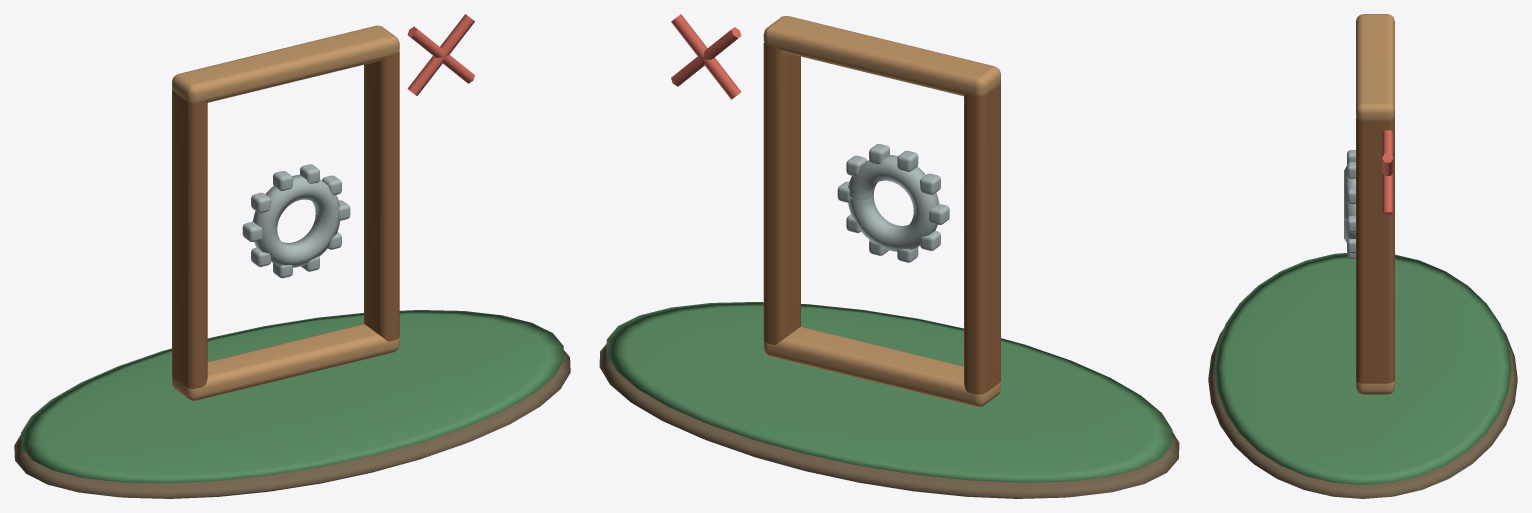
File: complete-third-bounded-making.glb
3 views of the same model, side by side, from view 1: azimuth 30°, elevation 25°; view 2: azimuth 150°, elevation 25°; view 3: azimuth 270°, elevation 25° (orthographic). The views are drawn at different scales.
Visible parts, largest first — view 1: complete-third-bounded-making_surface_01, complete-third-bounded-making_surface_02, complete-third-bounded-making_surface_03, complete-third-bounded-making_surface_00, complete-third-bounded-making_surface_04, complete-third-bounded-making_surface_05; view 2: complete-third-bounded-making_surface_01, complete-third-bounded-making_surface_02, complete-third-bounded-making_surface_03, complete-third-bounded-making_surface_00, complete-third-bounded-making_surface_04, complete-third-bounded-making_surface_05; view 3: complete-third-bounded-making_surface_01, complete-third-bounded-making_surface_02, complete-third-bounded-making_surface_00, complete-third-bounded-making_surface_03, complete-third-bounded-making_surface_04, complete-third-bounded-making_surface_05.
Part boxes in pixels (x1,y1,x2,y2): complete-third-bounded-making_surface_01: (21, 310, 563, 483); complete-third-bounded-making_surface_02: (172, 51, 399, 388); complete-third-bounded-making_surface_03: (172, 25, 399, 400); complete-third-bounded-making_surface_00: (14, 350, 570, 498); complete-third-bounded-making_surface_04: (242, 164, 350, 278); complete-third-bounded-making_surface_05: (407, 14, 474, 95); complete-third-bounded-making_surface_01: (606, 302, 1172, 482); complete-third-bounded-making_surface_02: (763, 42, 1000, 394); complete-third-bounded-making_surface_03: (763, 16, 1000, 406); complete-third-bounded-making_surface_00: (599, 344, 1179, 498); complete-third-bounded-making_surface_04: (837, 144, 949, 262); complete-third-bounded-making_surface_05: (671, 14, 741, 99); complete-third-bounded-making_surface_01: (1214, 253, 1511, 484); complete-third-bounded-making_surface_02: (1356, 117, 1394, 383); complete-third-bounded-making_surface_00: (1208, 329, 1517, 498); complete-third-bounded-making_surface_03: (1356, 14, 1394, 394); complete-third-bounded-making_surface_04: (1344, 150, 1355, 258); complete-third-bounded-making_surface_05: (1382, 130, 1393, 215).
Size of the model in its own units: 4.56 by 2.99 by 2.5.
